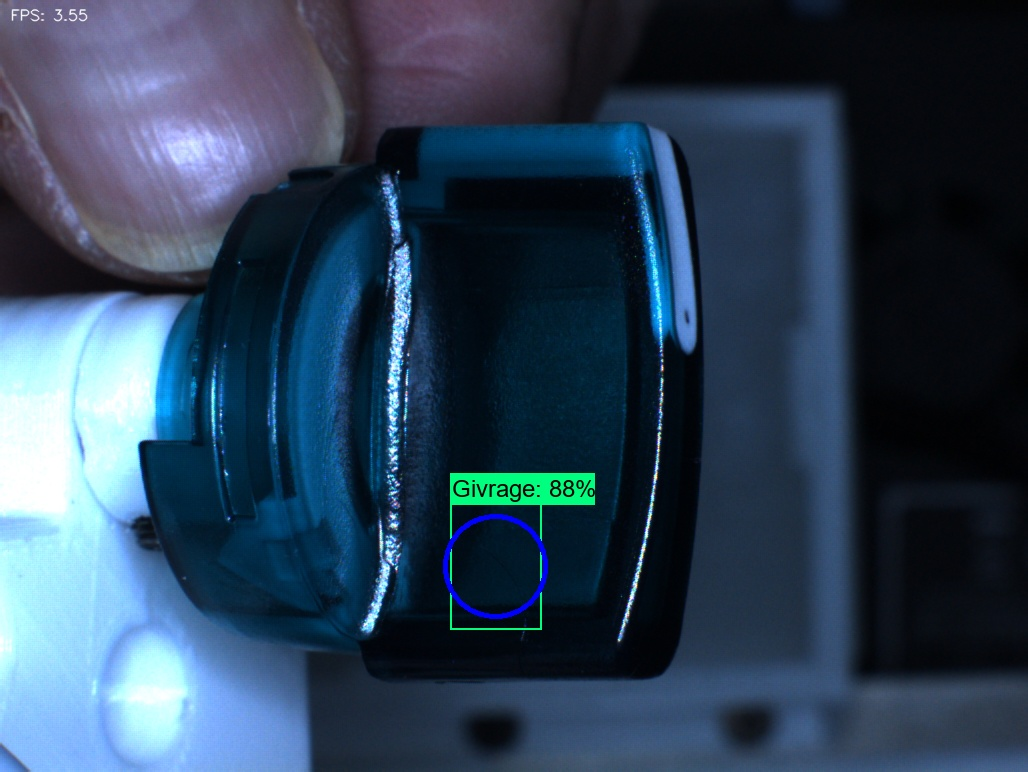PointNoir: (642, 270, 732, 363)
